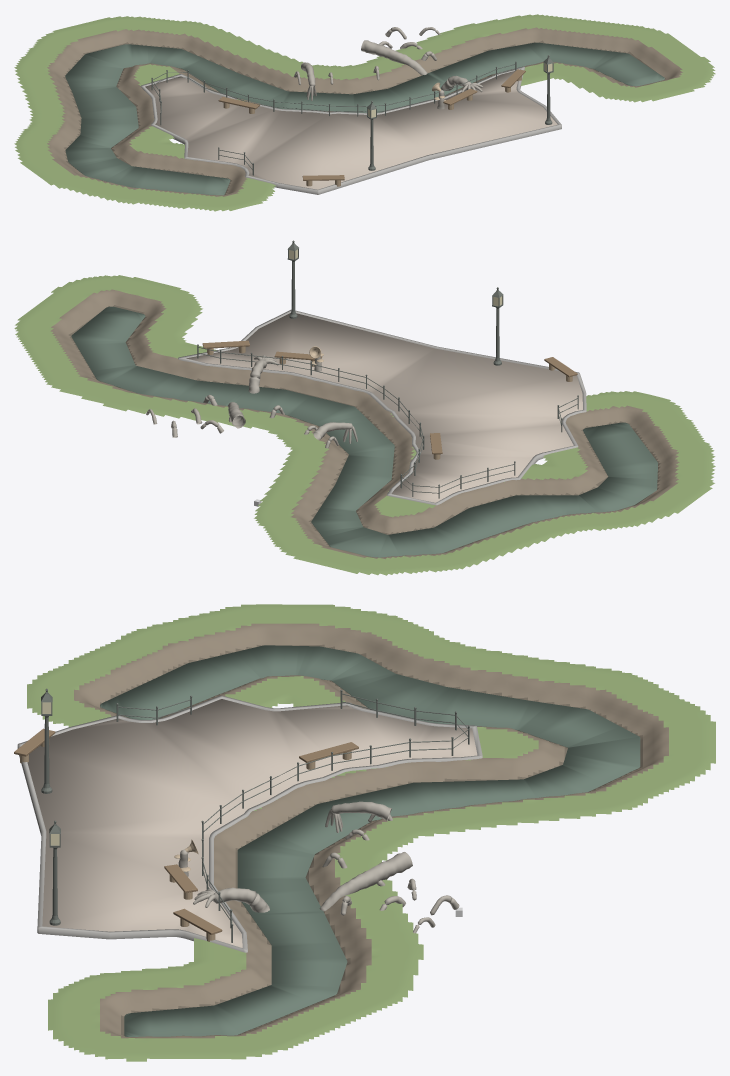
The model's file is SprookjesboomOmgeving.fbx.
The picture shows the model from 3 angles, top to bottom: view 1: azimuth 30°, elevation 25°; view 2: azimuth 150°, elevation 25°; view 3: azimuth 270°, elevation 25°; orthographic projection. The views are drawn at different scales.
Visible parts, largest first — view 1: klinker_0, water_0, gras_0, oever_0, gras_1, band_0, branch_0, ijzer_0, beekbodem_0, hout_0; view 2: klinker_0, water_0, gras_0, oever_0, gras_1, band_0, ijzer_0, branch_0, beekbodem_0, hout_0; view 3: klinker_0, water_0, gras_0, oever_0, gras_1, band_0, branch_0, ijzer_0, beekbodem_0, hout_0.
Part boxes in pixels (bbox=[...]): klinker_0: bbox=[145, 69, 557, 189]; water_0: bbox=[65, 42, 664, 195]; gras_0: bbox=[14, 14, 715, 211]; oever_0: bbox=[47, 27, 682, 196]; gras_1: bbox=[14, 16, 474, 132]; band_0: bbox=[140, 66, 561, 194]; branch_0: bbox=[294, 27, 483, 109]; ijzer_0: bbox=[151, 55, 553, 175]; beekbodem_0: bbox=[63, 40, 665, 194]; hout_0: bbox=[218, 69, 525, 180]; klinker_0: bbox=[186, 313, 582, 502]; water_0: bbox=[71, 306, 658, 557]; gras_0: bbox=[14, 275, 715, 529]; oever_0: bbox=[50, 289, 679, 559]; gras_1: bbox=[103, 404, 607, 575]; band_0: bbox=[178, 309, 586, 505]; ijzer_0: bbox=[197, 240, 578, 498]; branch_0: bbox=[146, 355, 357, 448]; beekbodem_0: bbox=[68, 305, 661, 552]; hout_0: bbox=[202, 340, 577, 454]; klinker_0: bbox=[27, 699, 477, 947]; water_0: bbox=[100, 645, 640, 1036]; gras_0: bbox=[27, 604, 423, 1061]; oever_0: bbox=[74, 623, 668, 1038]; gras_1: bbox=[418, 628, 715, 959]; band_0: bbox=[17, 695, 482, 952]; branch_0: bbox=[178, 801, 459, 933]; ijzer_0: bbox=[41, 688, 469, 942]; beekbodem_0: bbox=[100, 644, 642, 1036]; hout_0: bbox=[14, 728, 358, 934].
Size of the model in its own units: 31.05 by 5.4 by 20.17.
